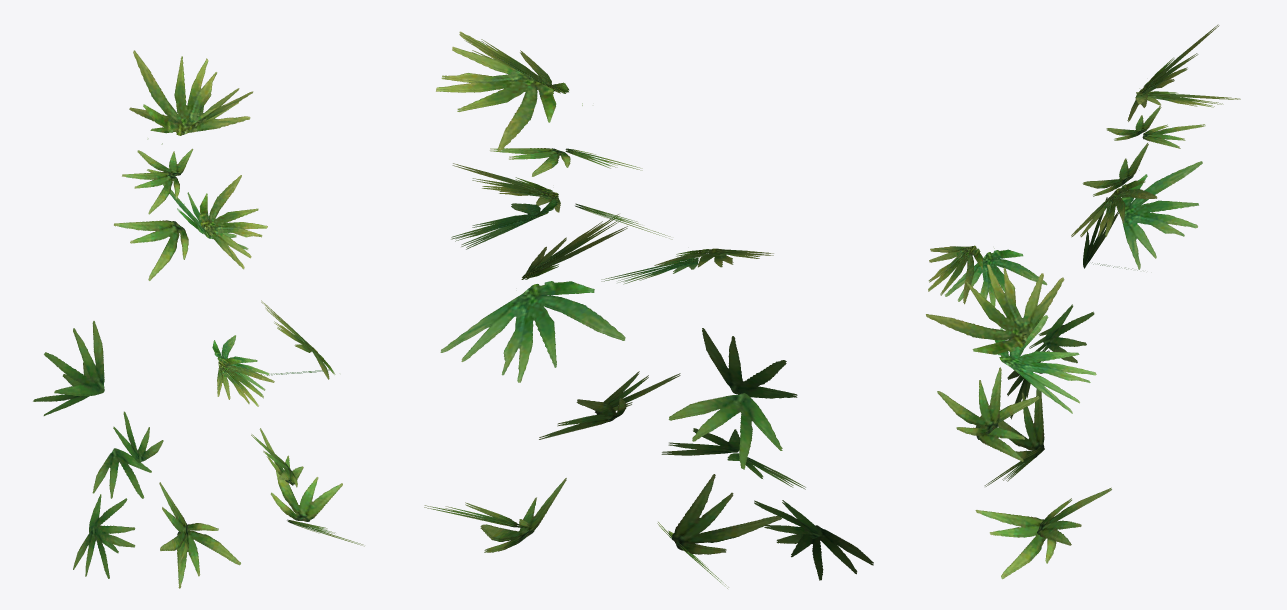
Rendered from Area_10_43.fbx.
3 views of the same model, side by side, from view 1: azimuth 30°, elevation 25°; view 2: azimuth 150°, elevation 25°; view 3: azimuth 270°, elevation 25° (orthographic). The views are drawn at different scales.
Parts seen in each view (by area): view 1: Area_10_43; view 2: Area_10_43; view 3: Area_10_43.
Boxes of the visible parts, box(x1,y1,x2,y2) form: Area_10_43: box(33, 50, 364, 588); Area_10_43: box(424, 31, 873, 588); Area_10_43: box(926, 24, 1240, 579).
Bounding box in the file's own units: 871 × 1279 × 807.
